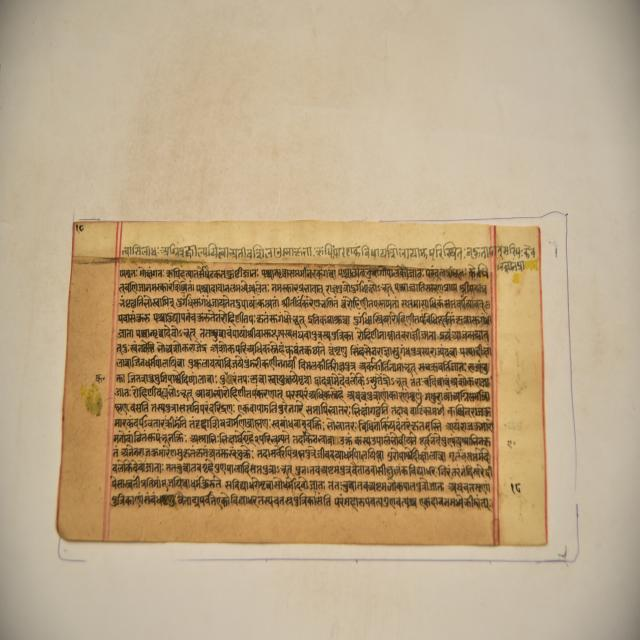text_paragraph: (56, 222, 546, 548)
